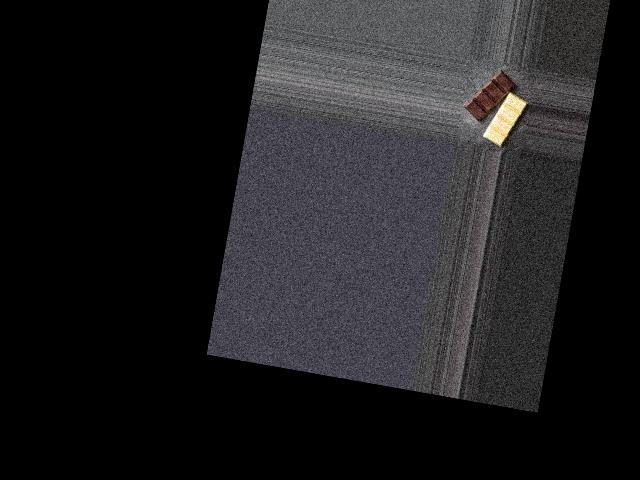chocolate: (459, 65, 531, 153)
